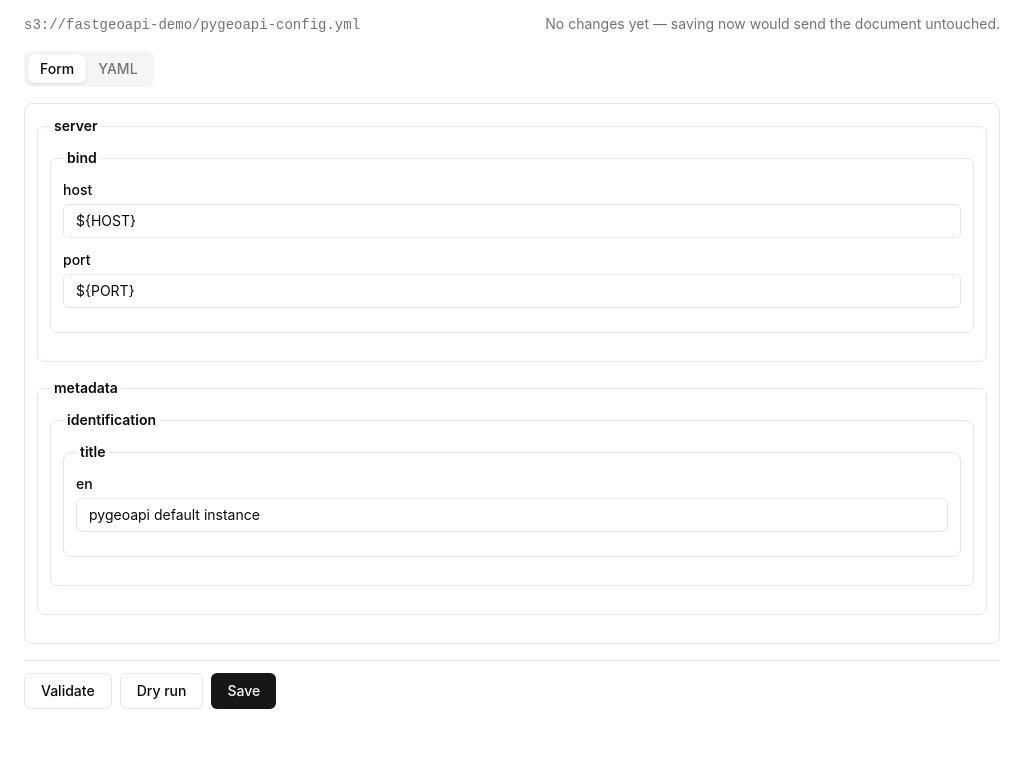
Test: what only fastgeoapi can say › shows the specifications and the tools when the dry run reports them
The width and height of the screenshot is (1024, 758).
Expected: the text "No changes yet" is shown, [545,15,1000,32]
Click the button "Dry run" at point(162, 691), box [120,673,203,709]
(page scrolled)
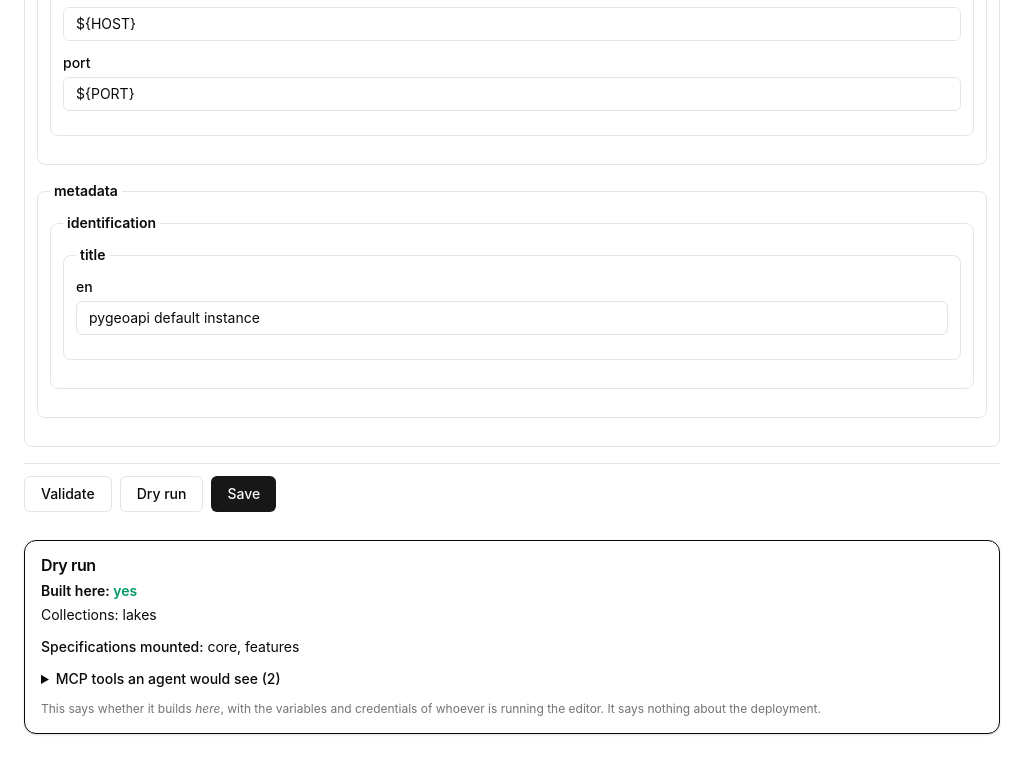
Now the text "Specifications mounted: core, features" is shown, box [41,638,299,655]
Now the heading "MCP tools an agent would see (2)" is shown, box [56,670,281,687]
